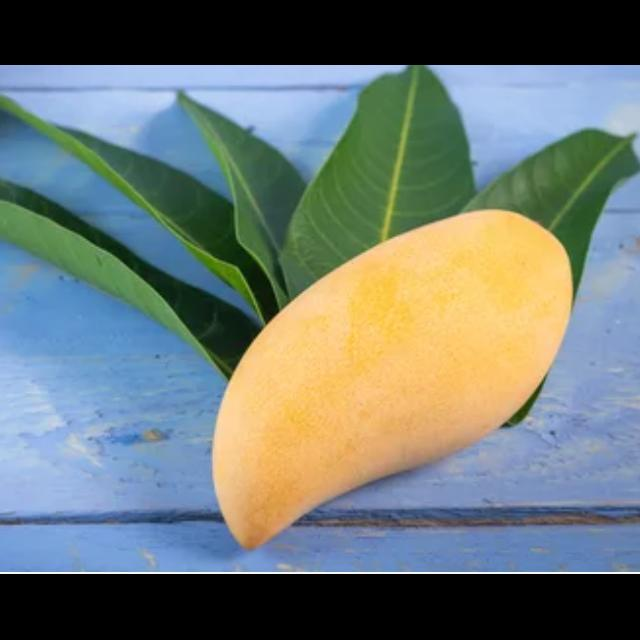mango: (209, 208, 574, 550)
